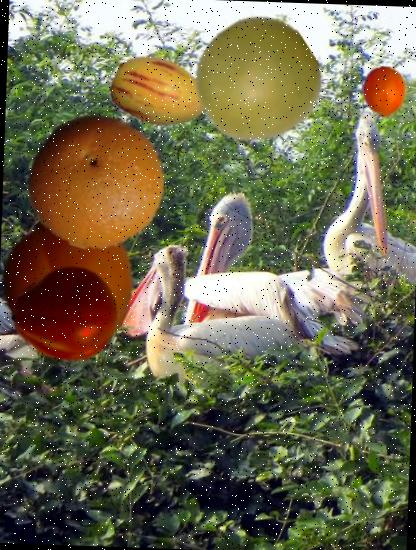Apricot: (0, 212, 144, 358)
Grape: (192, 15, 321, 144)
Orange: (25, 108, 168, 252)
Pepino: (111, 43, 213, 145)
Tangelo: (358, 66, 411, 119)
Tomato: (11, 258, 121, 367)
